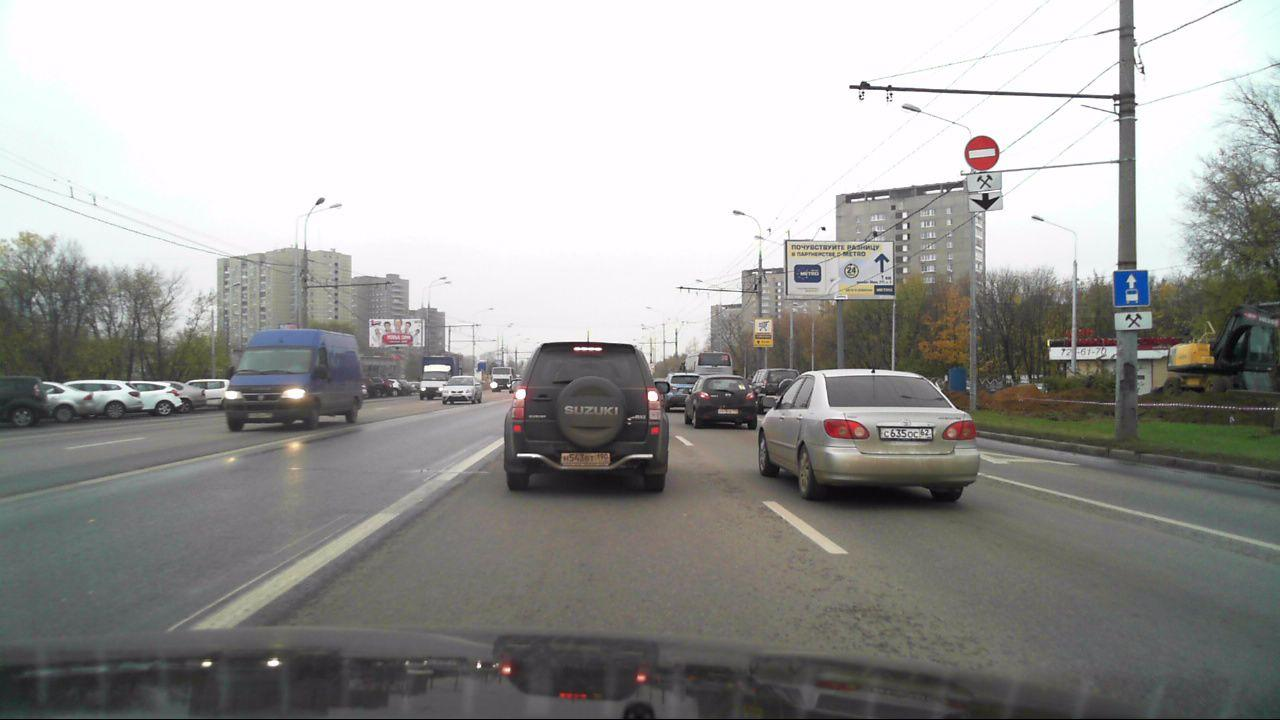3_1: (963, 134, 1000, 171)
5_14_1: (1111, 268, 1152, 308)
8_14: (967, 191, 1005, 212)
8_5_2: (1113, 312, 1156, 332), (966, 174, 1000, 190)
